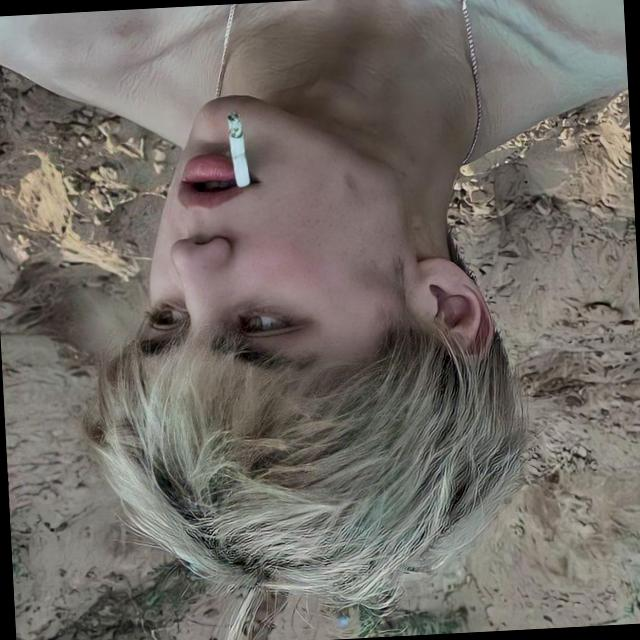smoke: (191, 86, 294, 216)
